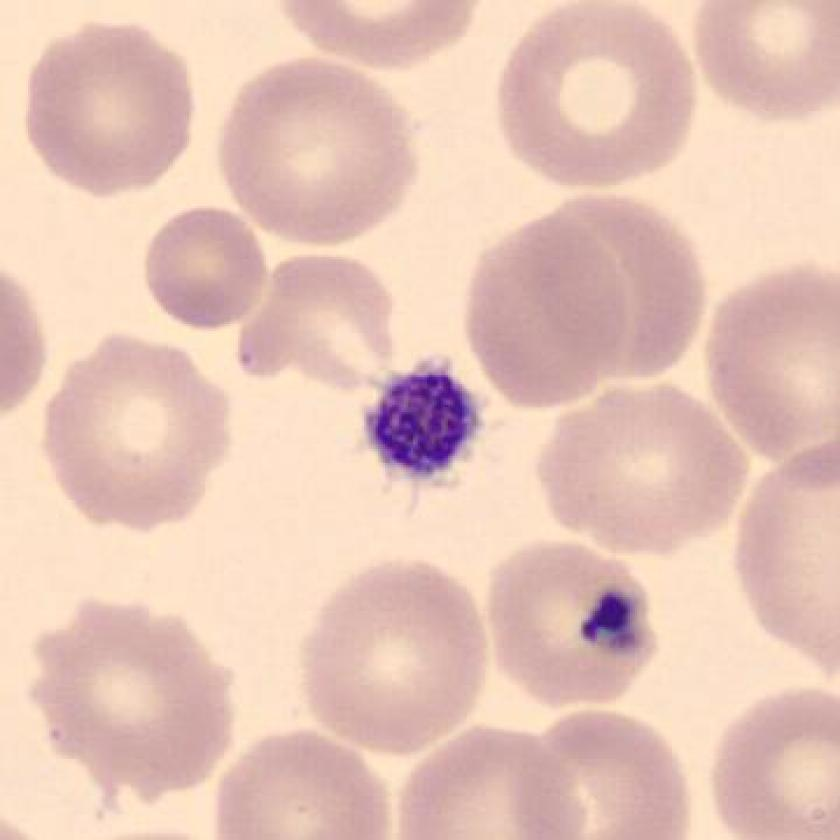platelets: (358, 357, 500, 522), (570, 582, 650, 665)
